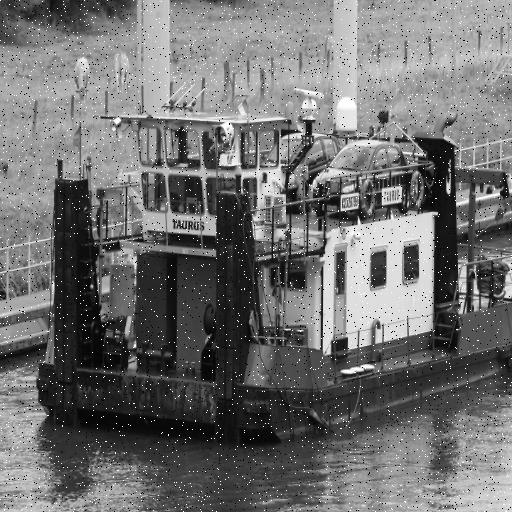tugboat: (33, 80, 512, 454)
